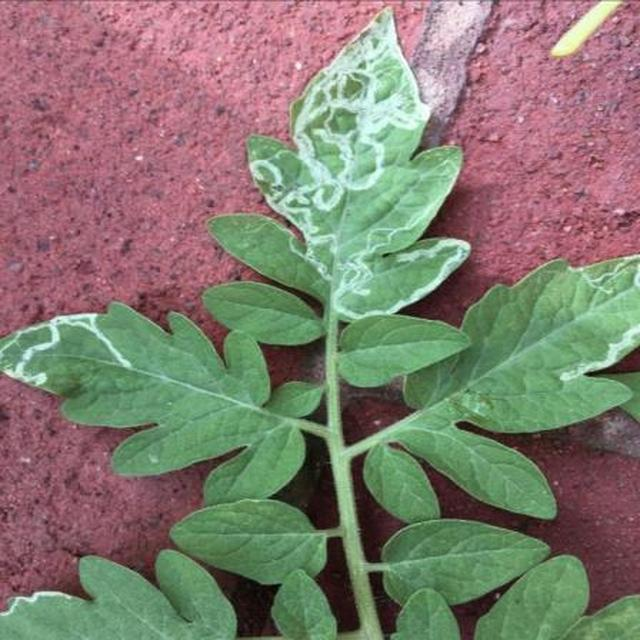Leaf Miner: (120, 96, 640, 640)
